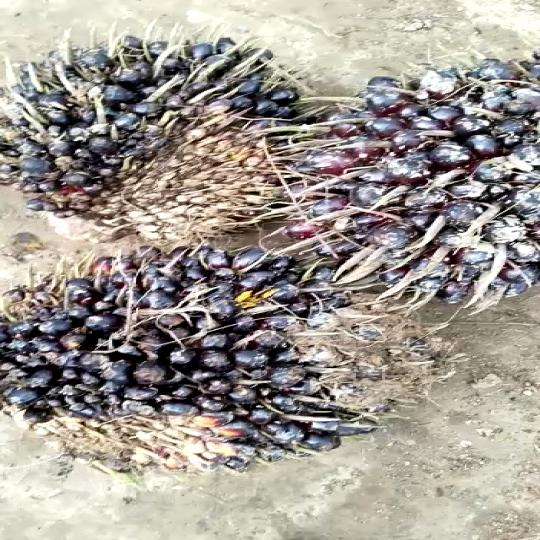mentah: (0, 244, 466, 488), (0, 29, 320, 247), (297, 46, 538, 314)
